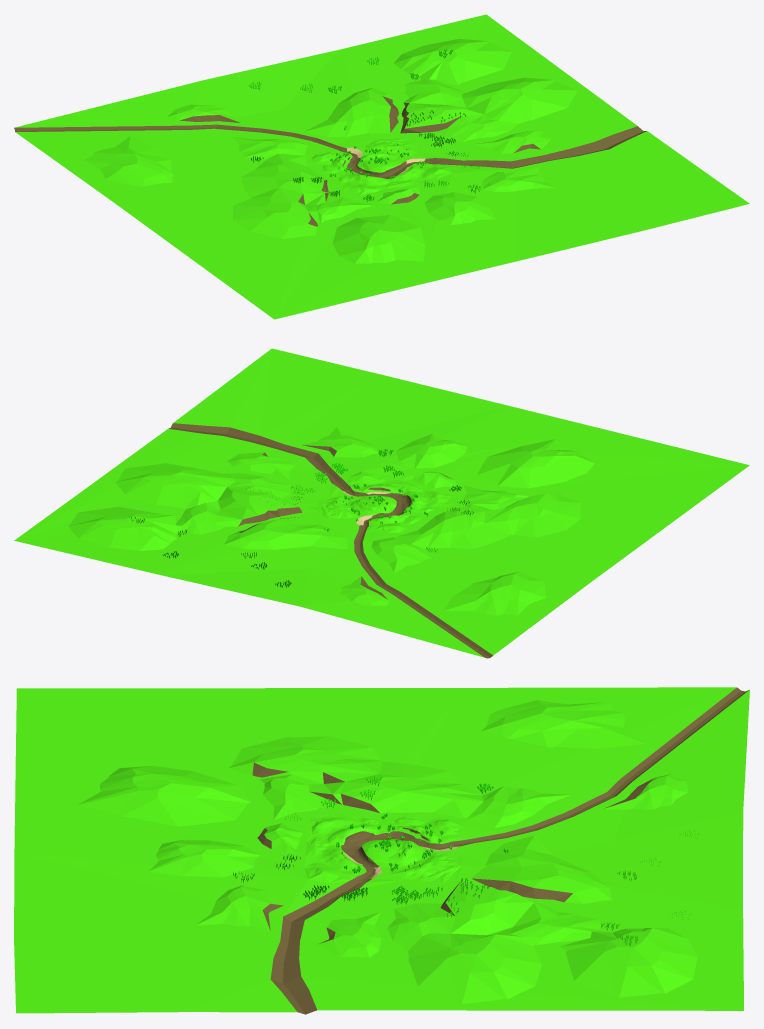
The model's file is Level1_extended.fbx.
3 views of the same model, one above another, from view 1: azimuth 30°, elevation 25°; view 2: azimuth 150°, elevation 25°; view 3: azimuth 270°, elevation 25° (orthographic). The views are drawn at different scales.
Visible parts, largest first — view 1: Combo2; view 2: Combo2; view 3: Combo2.
Part boxes in pixels (x1,y1,x2,y2): Combo2: [14, 14, 749, 319]; Combo2: [14, 348, 749, 658]; Combo2: [14, 687, 749, 1014].
Size of the model in its own units: 160671 by 5268 by 153114.
